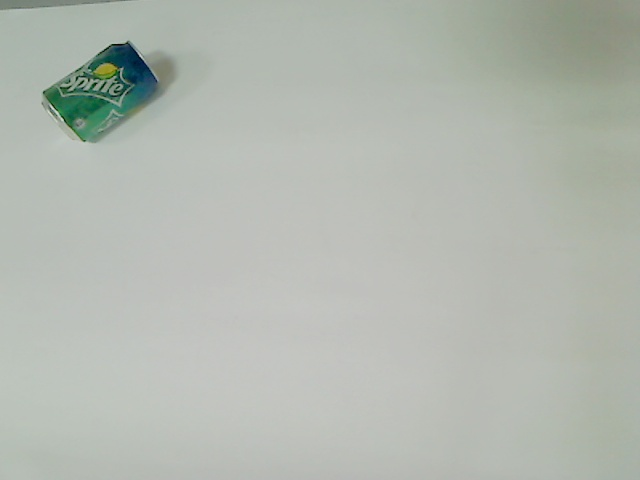can: (39, 37, 163, 145)
